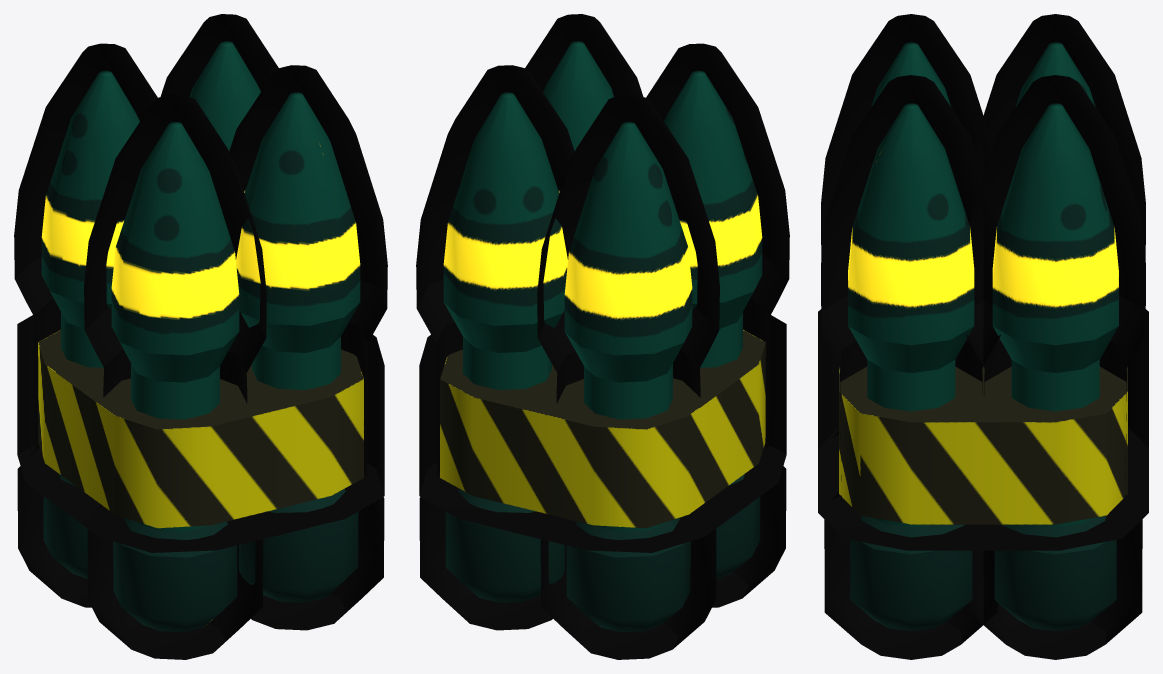
Rendered from ammo_MISSILE.fbx.
3 renders of one model, left to right at view 1: azimuth 30°, elevation 25°; view 2: azimuth 150°, elevation 25°; view 3: azimuth 270°, elevation 25°, orthographic. The views are drawn at different scales.
Visible parts, largest first — view 1: pCylinder8 (×2); view 2: pCylinder8 (×2); view 3: pCylinder8 (×2).
Boxes of the visible parts, x1=… form: pCylinder8 (×2): x1=14, y1=14, x2=387, y2=659; pCylinder8 (×2): x1=416, y1=14, x2=789, y2=659; pCylinder8 (×2): x1=818, y1=14, x2=1148, y2=659.
Size of the model in its own units: 5.14 by 9.5 by 5.09.
Materials: 2 (1 with a texture image).
